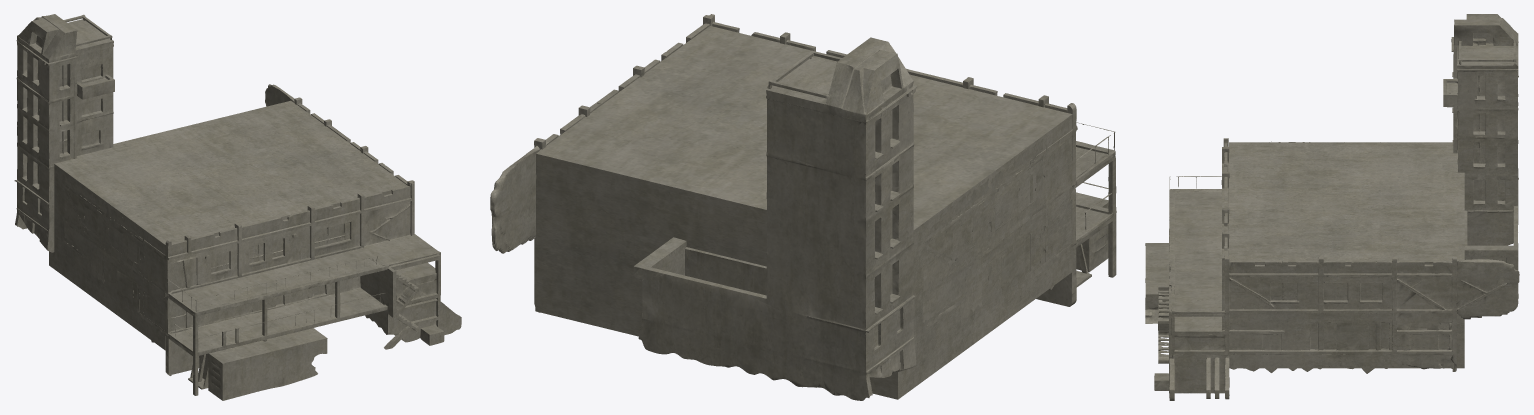
Rendered from usar.glb.
3 renders of one model, left to right at view 1: azimuth 30°, elevation 25°; view 2: azimuth 150°, elevation 25°; view 3: azimuth 270°, elevation 25°, orthographic. The views are drawn at different scales.
Parts seen in each view (by area): view 1: model_0, Cube_3, model.002_2; view 2: Cube_3, model_0, model.002_2; view 3: model_0, Cube_3, model.001_1.
Boxes of the visible parts, bbox=[...] form: model_0: bbox=[14, 14, 461, 400]; Cube_3: bbox=[49, 100, 407, 350]; model.002_2: bbox=[63, 175, 144, 314]; Cube_3: bbox=[535, 26, 1072, 399]; model_0: bbox=[490, 14, 1116, 400]; model.002_2: bbox=[922, 138, 1047, 328]; model_0: bbox=[1145, 14, 1519, 400]; Cube_3: bbox=[1229, 142, 1464, 368]; model.001_1: bbox=[1229, 263, 1394, 348].
Bounding box in the file's own units: 1.36 × 1.22 × 1.59.
Materials: 1 (1 with a texture image).
